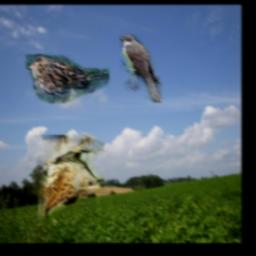Cuckoo: (121, 35, 163, 103)
Sparrow: (28, 135, 104, 243), (27, 55, 110, 104)
